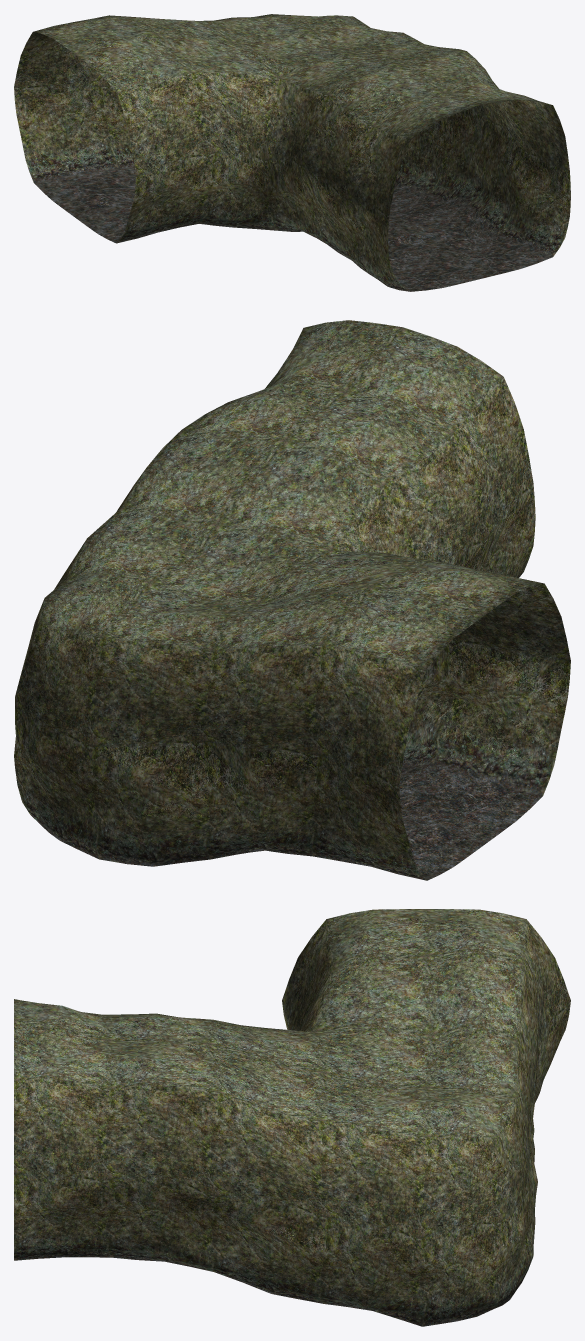
File: thm_all_cave_s03_damprock_r26_r26.fbx
3 renders of one model, top to bottom at view 1: azimuth 30°, elevation 25°; view 2: azimuth 150°, elevation 25°; view 3: azimuth 270°, elevation 25°, orthographic. The views are drawn at different scales.
Parts seen in each view (by area): view 1: mesh_node; view 2: mesh_node; view 3: mesh_node.
Part boxes in pixels (x1,y1,x2,y2): mesh_node: [14, 14, 570, 291]; mesh_node: [14, 320, 570, 880]; mesh_node: [14, 909, 570, 1326].
Size of the model in its own units: 33.83 by 22.2 by 41.86.
